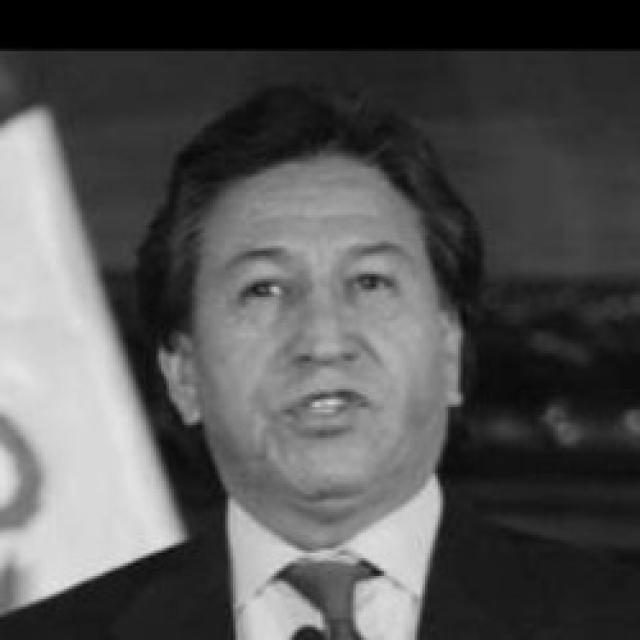real: (182, 148, 454, 519), (233, 260, 409, 318)
